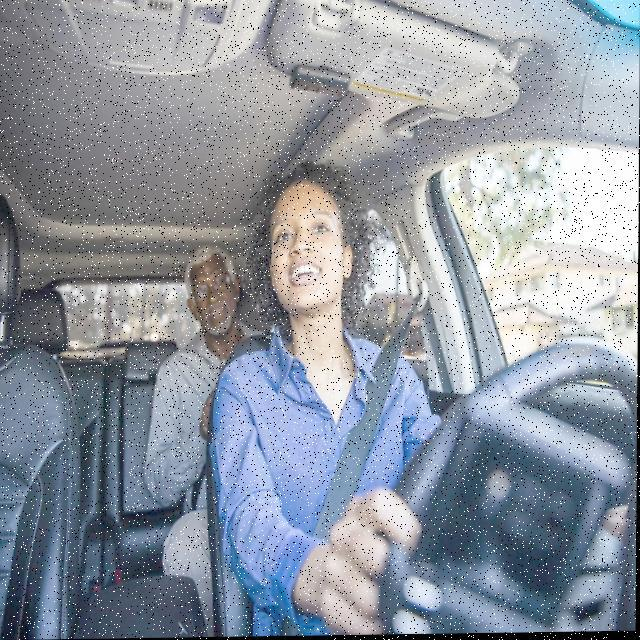seatbelt: (225, 329, 416, 636)
